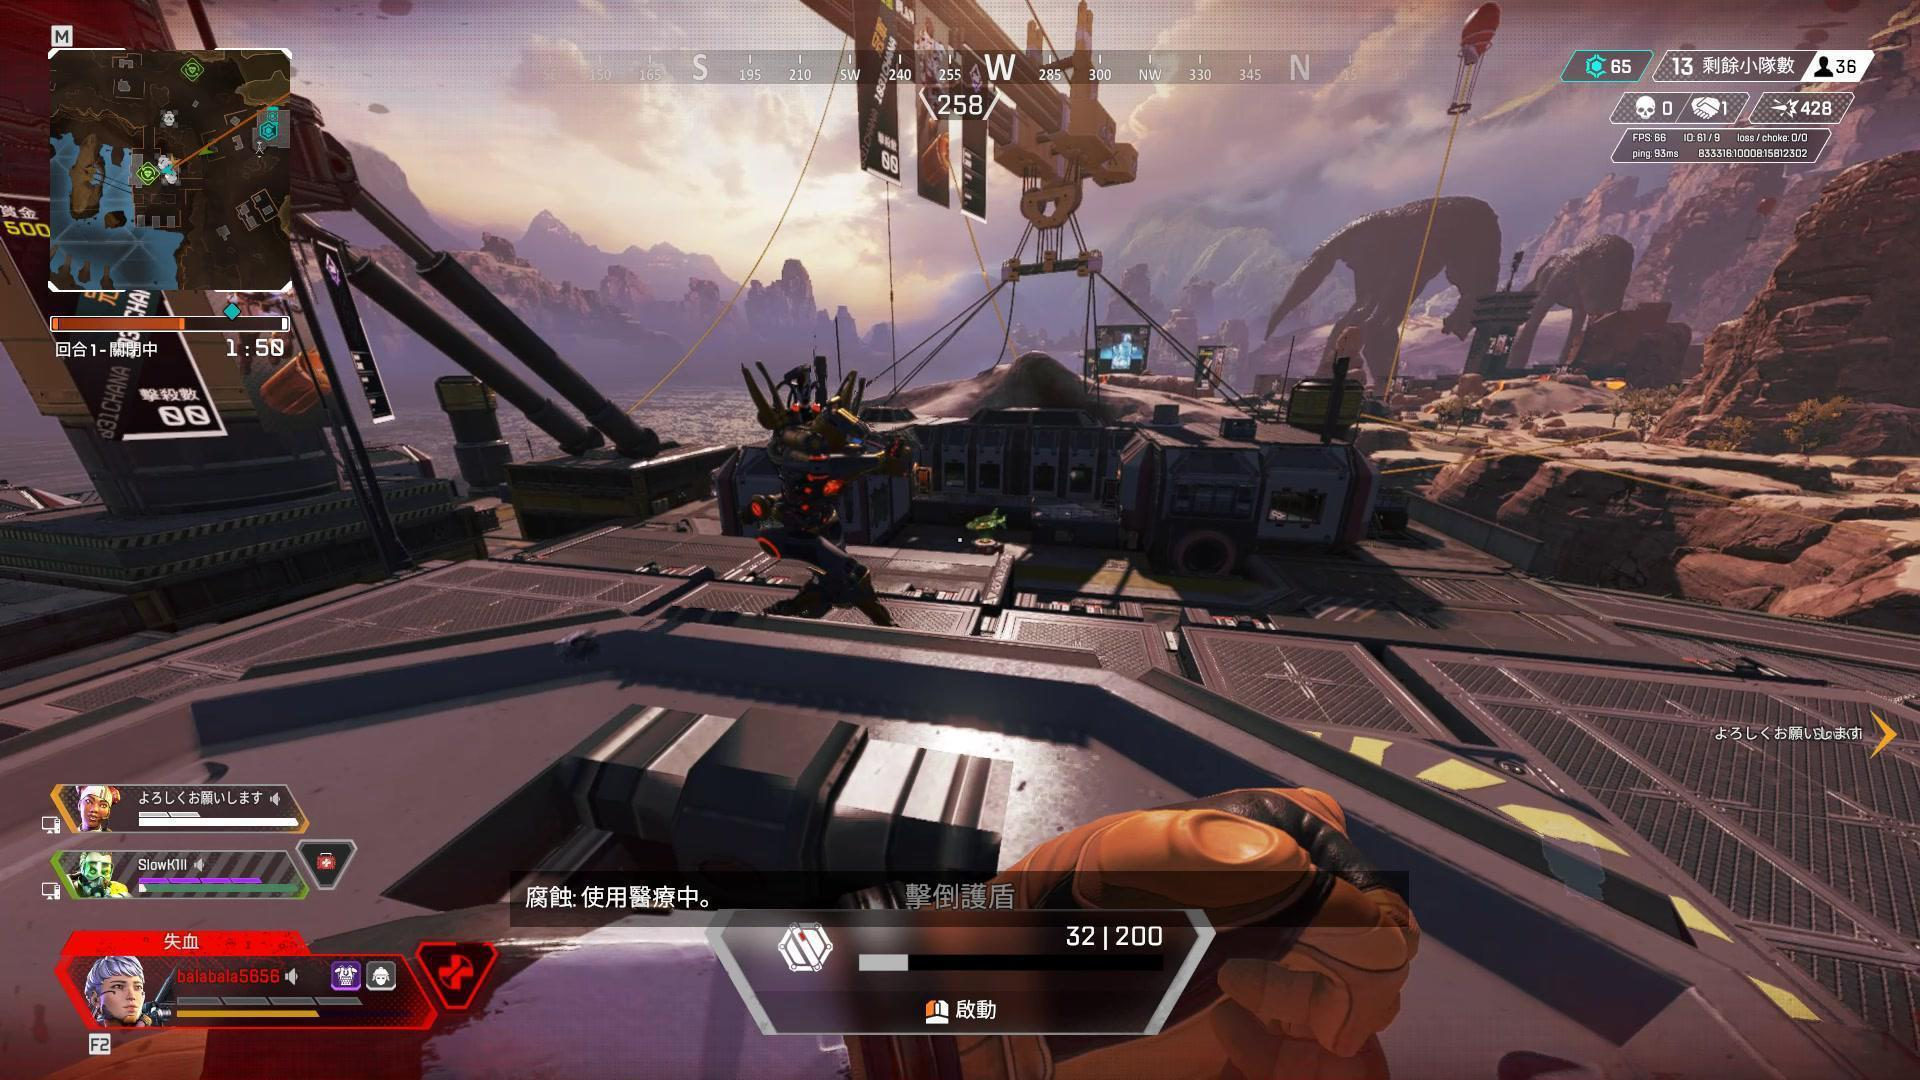avatar: (747, 366, 917, 628)
